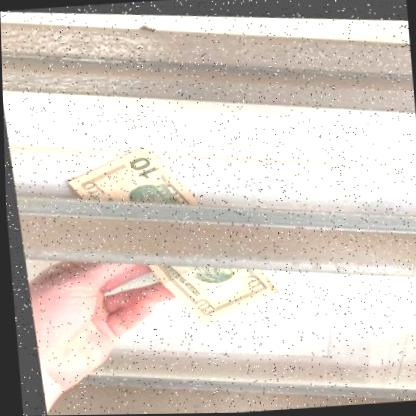ten-back: (63, 143, 275, 323)
